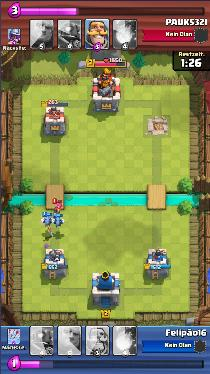ally_minion: (52, 215, 66, 227), (40, 215, 52, 225)
enemy_archer: (53, 202, 63, 213)
